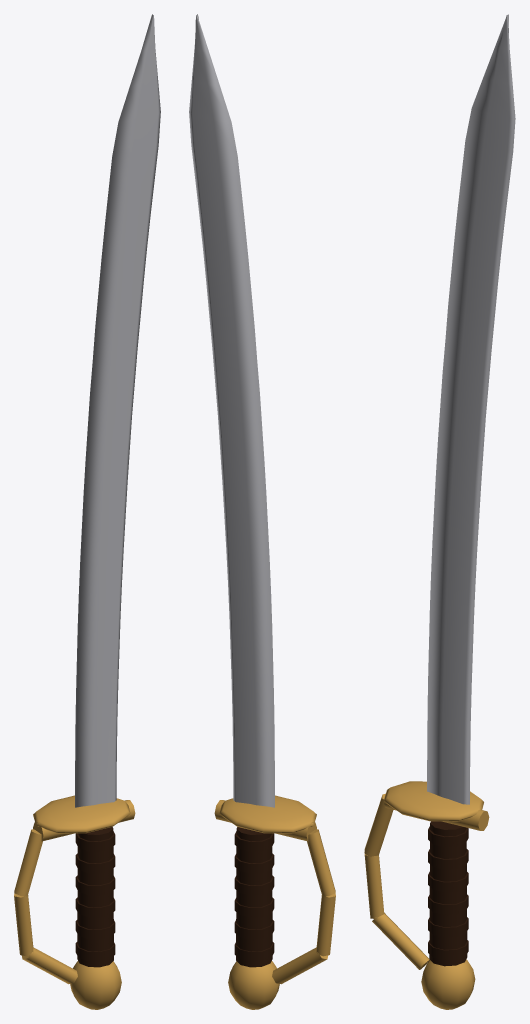
The model's file is SM_Art_Weapon_Cutlass.gltf.
3 views of the same model, side by side, from view 1: azimuth 30°, elevation 25°; view 2: azimuth 150°, elevation 25°; view 3: azimuth 330°, elevation 25° (orthographic). The views are drawn at different scales.
Visible parts, largest first — view 1: SM_Art_Weapon_Cutlass; view 2: SM_Art_Weapon_Cutlass; view 3: SM_Art_Weapon_Cutlass.
Part boxes in pixels (x1,y1,x2,y2): SM_Art_Weapon_Cutlass: (14,14,160,1009); SM_Art_Weapon_Cutlass: (189,14,335,1009); SM_Art_Weapon_Cutlass: (364,14,515,1009).
Bounding box in the file's own units: 0.1279 × 0.8149 × 0.0571.
